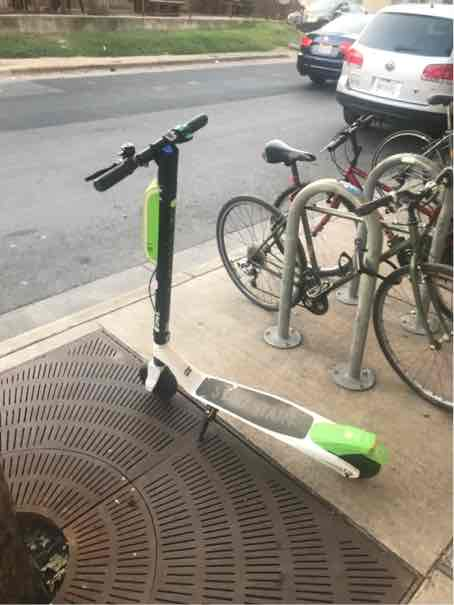scooter: (75, 97, 404, 483)
